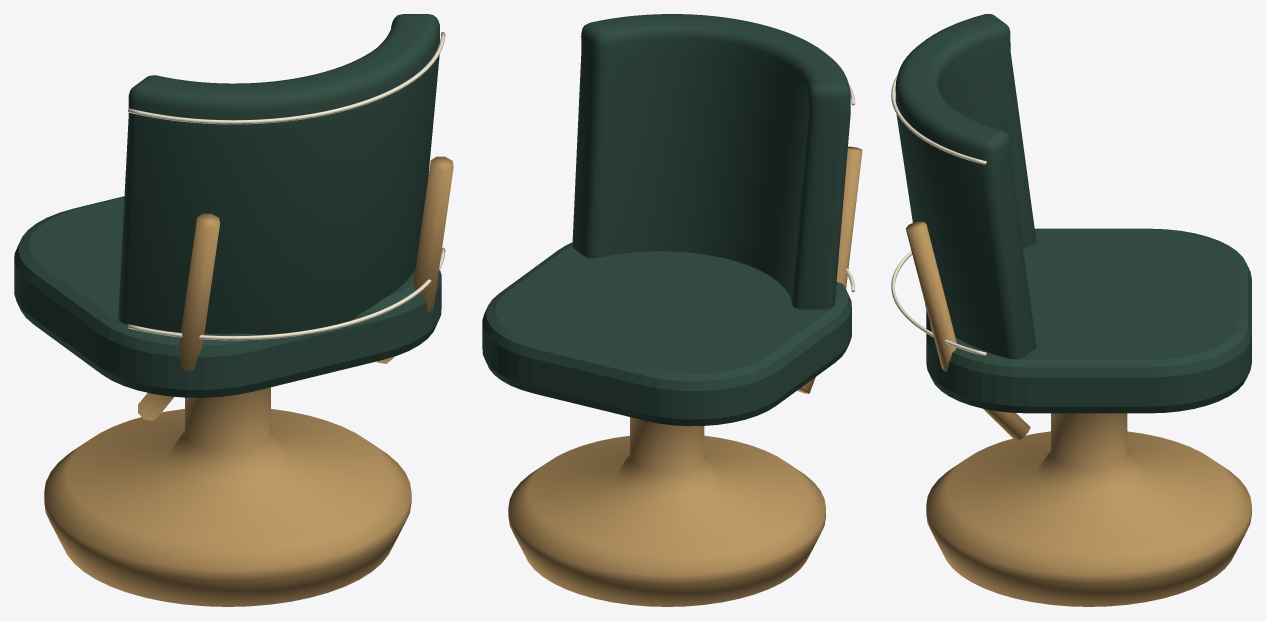
The model's file is casino-chair.glb.
3 renders of one model, left to right at view 1: azimuth 30°, elevation 25°; view 2: azimuth 150°, elevation 25°; view 3: azimuth 270°, elevation 25°, orthographic. The views are drawn at different scales.
Parts seen in each view (by area): view 1: Meridian evergreen upholstery.004, Meridian brushed bronze.004, Meridian ivory marking.004; view 2: Meridian evergreen upholstery.004, Meridian brushed bronze.004; view 3: Meridian evergreen upholstery.004, Meridian brushed bronze.004, Meridian ivory marking.004.
Part boxes in pixels (x1=…): Meridian evergreen upholstery.004: x1=14, y1=14, x2=441, y2=397; Meridian brushed bronze.004: x1=44, y1=156, x2=453, y2=606; Meridian ivory marking.004: x1=128, y1=31, x2=445, y2=340; Meridian evergreen upholstery.004: x1=482, y1=14, x2=851, y2=426; Meridian brushed bronze.004: x1=508, y1=146, x2=862, y2=606; Meridian evergreen upholstery.004: x1=895, y1=14, x2=1251, y2=413; Meridian brushed bronze.004: x1=905, y1=221, x2=1251, y2=606; Meridian ivory marking.004: x1=891, y1=75, x2=986, y2=356.
Bounding box in the file's own units: 0.66 × 1.01 × 0.709.
